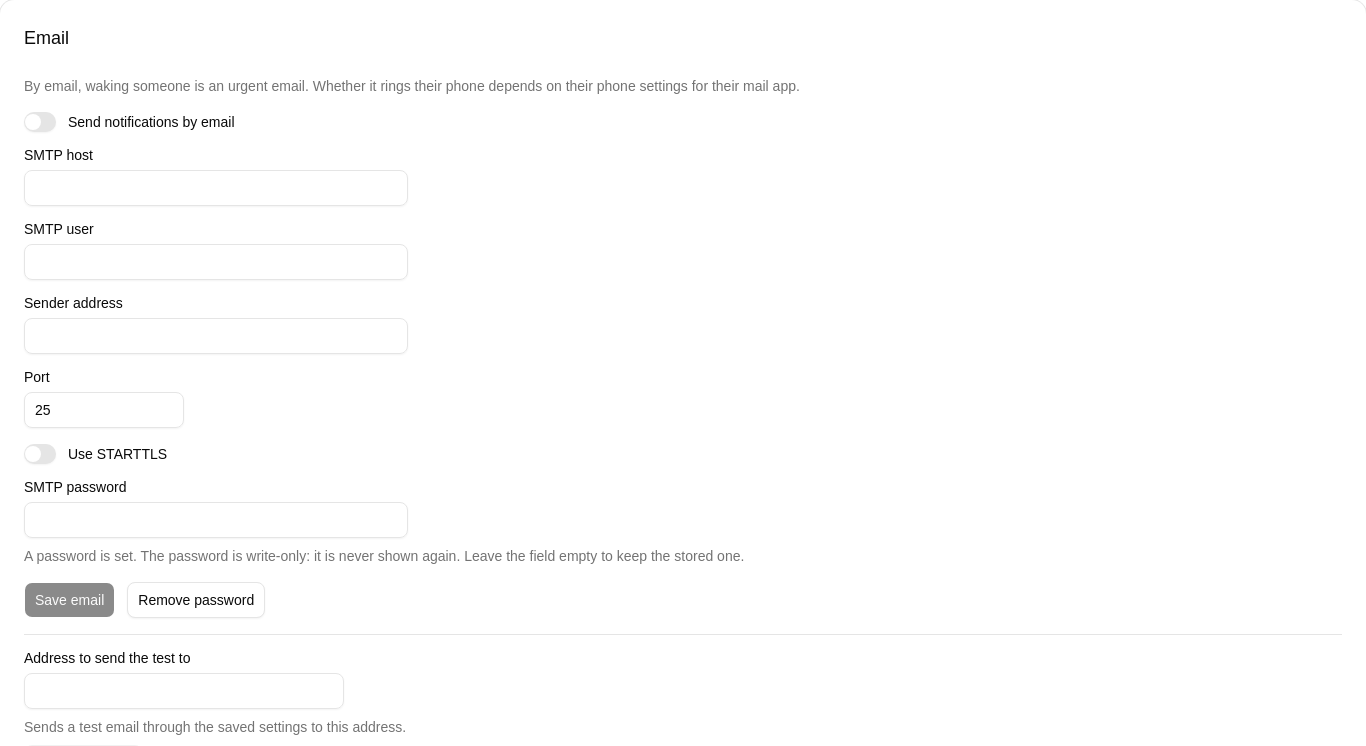
Test case: removes the stored password through the DELETE route
Click the button "Remove password" at {"x": 196, "y": 600}, box [127,582,265,618]
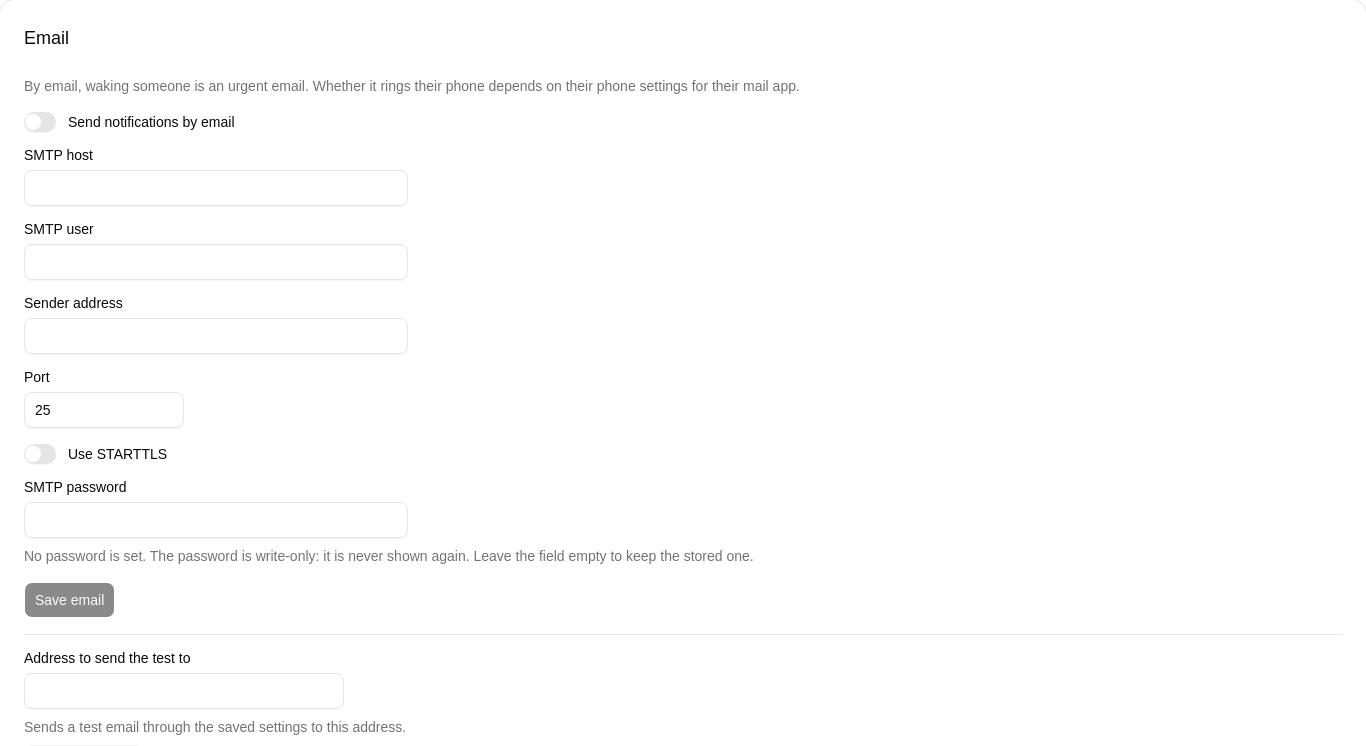
Now the text "No password is set." is shown, box [24,548,146,564]
